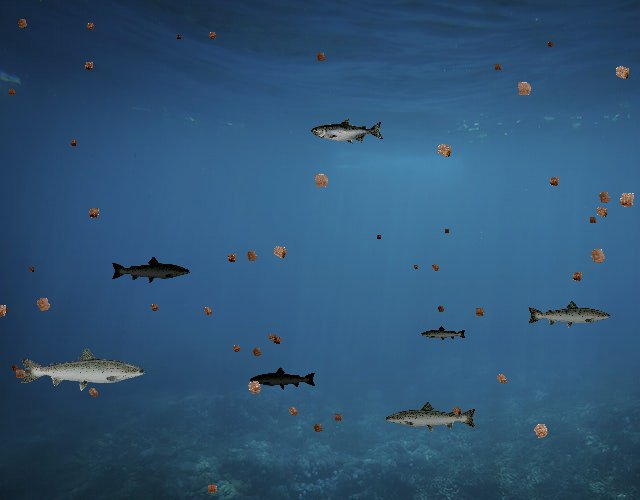Fish: (18, 346, 147, 392), (385, 401, 479, 435), (526, 299, 612, 330), (110, 256, 191, 285), (311, 118, 384, 145), (250, 367, 318, 391), (420, 326, 467, 343)
Pellet: (612, 184, 640, 215), (240, 374, 268, 402), (266, 239, 293, 266), (12, 14, 33, 35), (82, 18, 98, 34), (544, 38, 557, 51), (25, 263, 37, 275)
